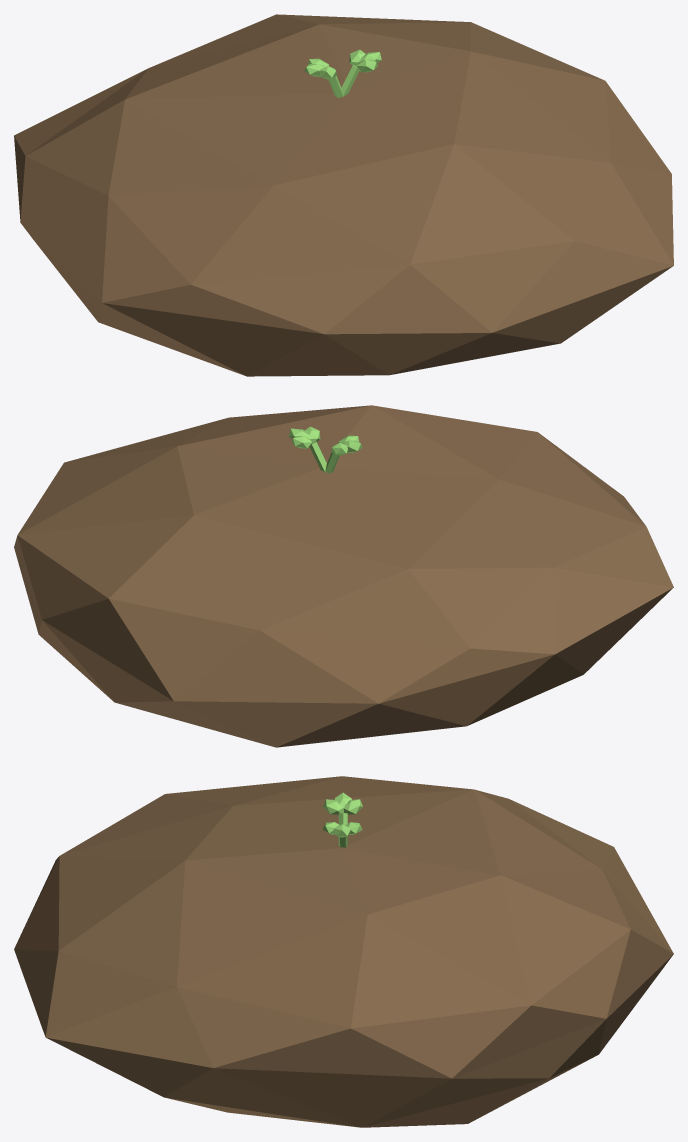
Rendered from fraise_1_plantee.fbx.
3 renders of one model, top to bottom at view 1: azimuth 30°, elevation 25°; view 2: azimuth 150°, elevation 25°; view 3: azimuth 270°, elevation 25°, orthographic. The views are drawn at different scales.
Visible parts, largest first — view 1: fraise_1_plantee; view 2: fraise_1_plantee; view 3: fraise_1_plantee.
Part boxes in pixels (x1=…): fraise_1_plantee: x1=14, y1=14, x2=673, y2=376; fraise_1_plantee: x1=14, y1=405, x2=673, y2=747; fraise_1_plantee: x1=14, y1=776, x2=673, y2=1127.
Size of the model in its own units: 0.9482 by 0.3921 by 0.9652.
